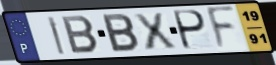B: (101, 12, 141, 54), (60, 15, 102, 55)
F: (205, 5, 237, 53)
I: (46, 15, 67, 56)
P: (173, 9, 209, 52)
X: (131, 11, 179, 52)
